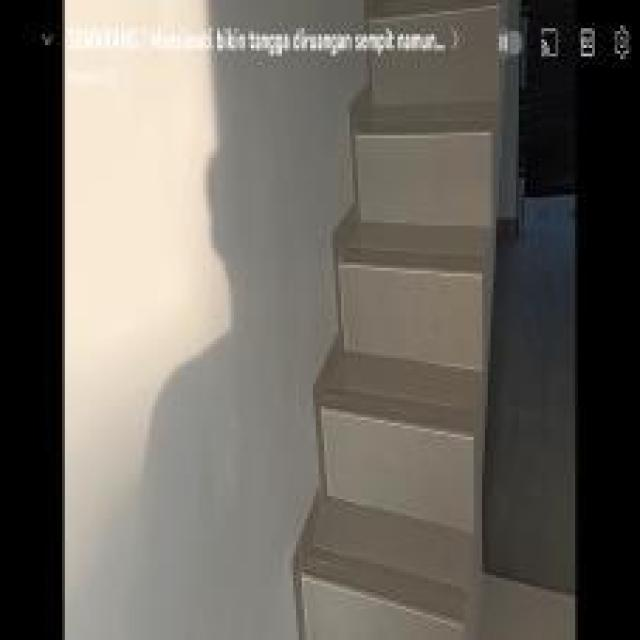upstair: (342, 63, 480, 638)
